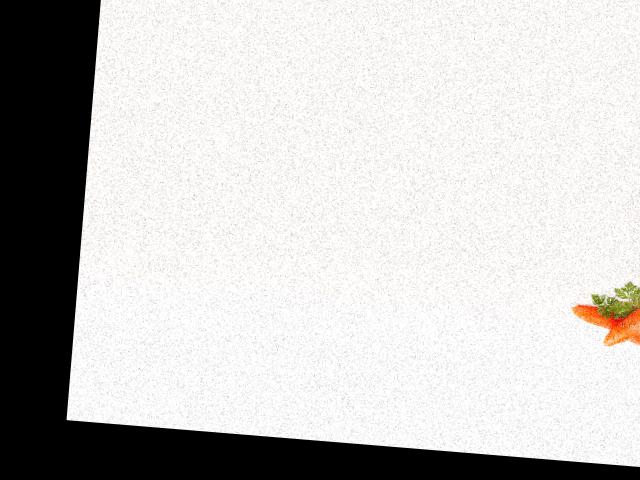carrot: (568, 304, 640, 349)
